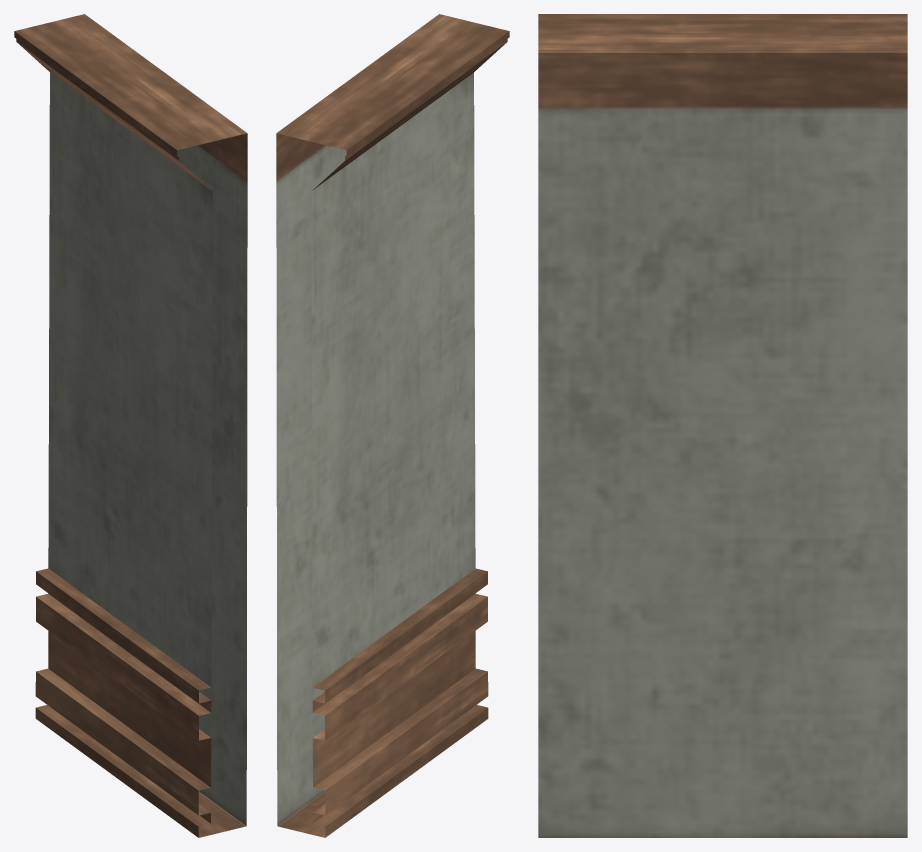
File: wall_default_2.fbx
3 views of the same model, side by side, from view 1: azimuth 30°, elevation 25°; view 2: azimuth 150°, elevation 25°; view 3: azimuth 270°, elevation 25° (orthographic). The views are drawn at different scales.
Parts seen in each view (by area): view 1: wall_default_2; view 2: wall_default_2; view 3: wall_default_2.
Boxes of the visible parts, left/top/right/bottom form: wall_default_2: left=14, top=14, right=247, bottom=837; wall_default_2: left=276, top=14, right=509, bottom=837; wall_default_2: left=538, top=14, right=907, bottom=837.
Bounding box in the file's own units: 29.94 × 282 × 120.
